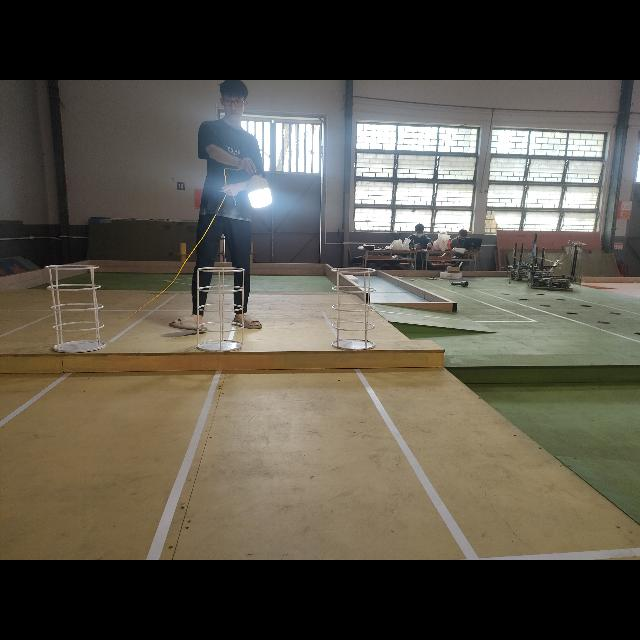S: (47, 254, 109, 354), (193, 256, 253, 354)
